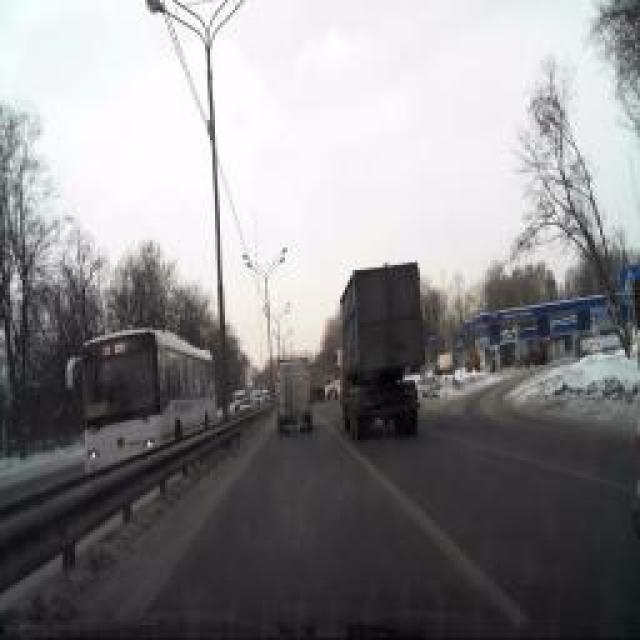sign: (426, 330, 436, 348)
